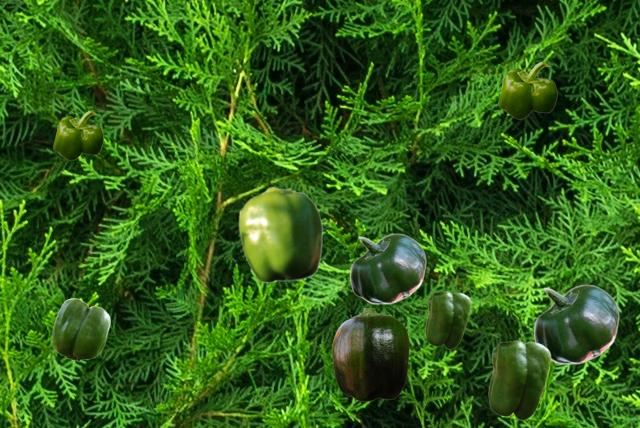bell_pepper: (238, 186, 322, 282), (332, 308, 408, 400), (533, 284, 618, 363), (349, 233, 425, 303), (488, 340, 550, 419), (52, 298, 109, 360), (498, 61, 556, 118), (425, 291, 470, 348), (53, 110, 102, 159)
